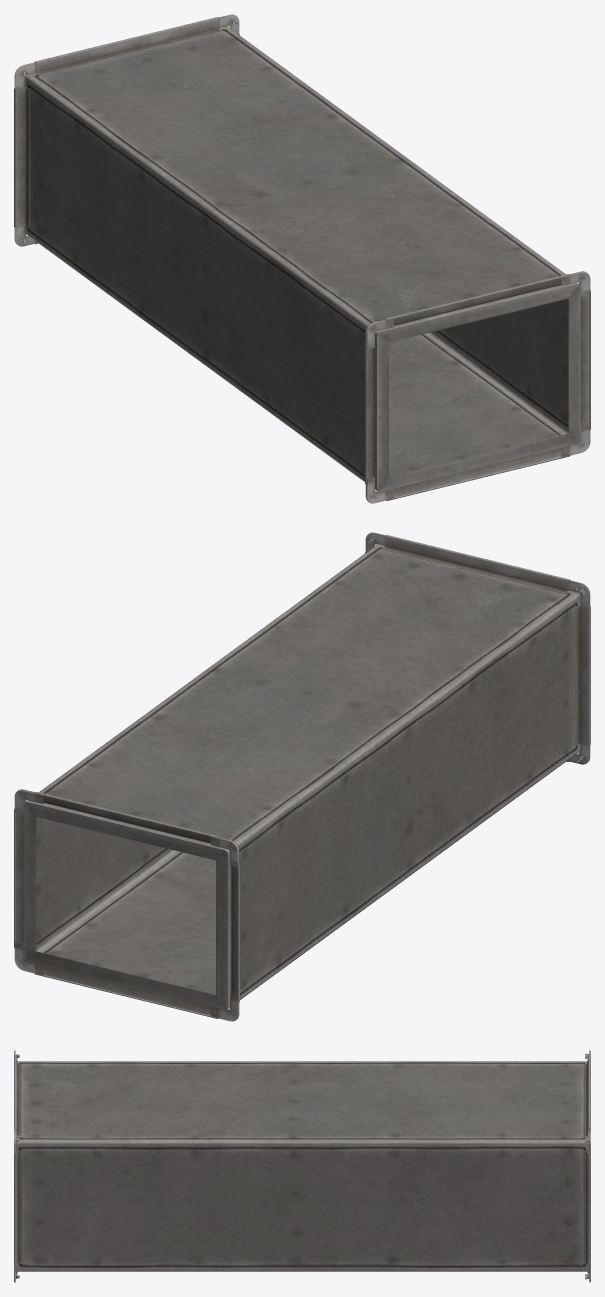
The model's file is tripple_01.gltf.
3 views of the same model, one above another, from view 1: azimuth 30°, elevation 25°; view 2: azimuth 150°, elevation 25°; view 3: azimuth 270°, elevation 25° (orthographic). The views are drawn at different scales.
Visible parts, largest first — view 1: tripple_01; view 2: tripple_01; view 3: tripple_01.
Part boxes in pixels (x1=…): tripple_01: x1=14, y1=14, x2=590, y2=503; tripple_01: x1=14, y1=532, x2=590, y2=1021; tripple_01: x1=14, y1=1050, x2=590, y2=1282.
Bounding box in the file's own units: 0.6634 × 0.5126 × 1.8.
Materials: 2 (2 with a texture image).
